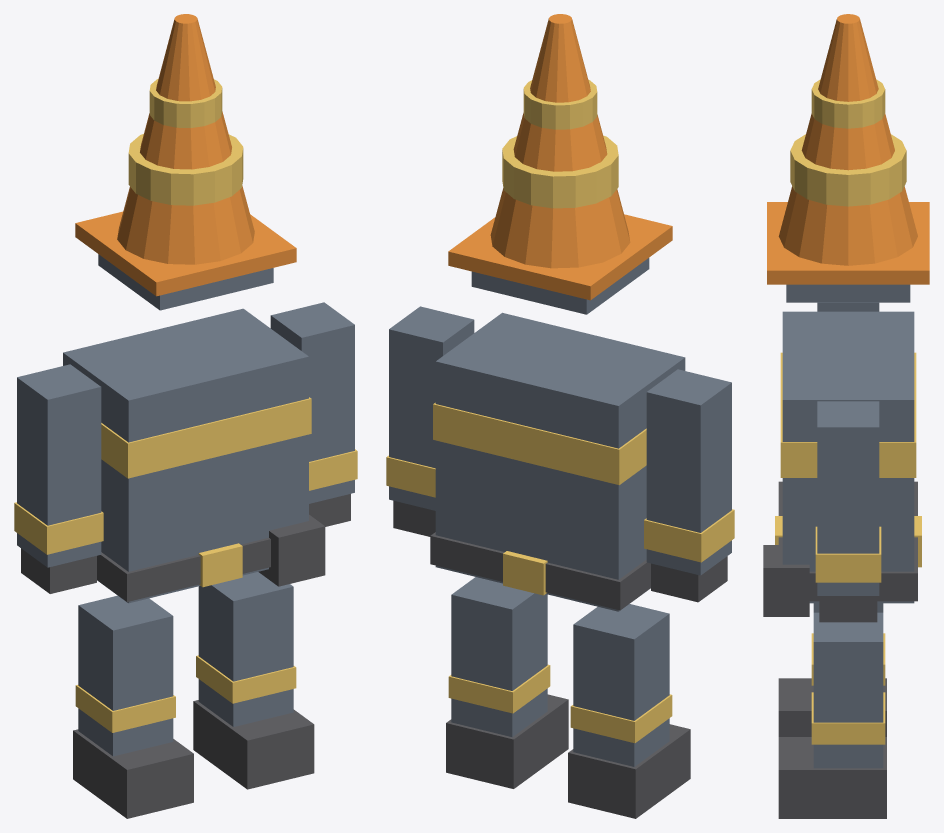
File: traffic-cone-guy.glb
3 views of the same model, side by side, from view 1: azimuth 30°, elevation 25°; view 2: azimuth 150°, elevation 25°; view 3: azimuth 270°, elevation 25° (orthographic).
Visible parts, largest first — view 1: JacketTorso, ConeBody, Arm_L_Sleeve, Pants_L, Pants_R, Arm_R_Sleeve, ChestStripe, Boot_R, Boot_L, ConeBase, ConeStripeLower, ToolBelt (+10 smaller); view 2: JacketTorso, ConeBody, Arm_L_Sleeve, Pants_L, Pants_R, Arm_R_Sleeve, ChestStripe, ConeBase, Boot_R, Boot_L, ToolBelt, ConeStripeLower (+9 smaller); view 3: JacketTorso, ConeBody, Arm_R_Sleeve, Pants_R, Boot_R, ConeBase, ConeStripeLower, ChestStripe, BeltPouch, Collar, ConeStripeUpper, Cuff_R_Reflector (+6 smaller).
Part boxes in pixels (left/top/right/bottom): JacketTorso: left=63, top=308, right=308, bottom=603; ConeBody: left=117, top=14, right=254, bottom=264; Arm_L_Sleeve: left=17, top=364, right=101, bottom=567; Pants_L: left=78, top=595, right=173, bottom=756; Pants_R: left=198, top=572, right=293, bottom=726; Arm_R_Sleeve: left=270, top=302, right=354, bottom=503; ChestStripe: left=101, top=397, right=311, bottom=478; Boot_R: left=193, top=700, right=314, bottom=789; Boot_L: left=73, top=729, right=193, bottom=818; ConeBase: left=75, top=211, right=296, bottom=296; ConeStripeLower: left=128, top=134, right=243, bottom=205; ToolBelt: left=97, top=537, right=270, bottom=601; JacketTorso: left=435, top=312, right=685, bottom=611; ConeBody: left=490, top=14, right=630, bottom=268; Arm_L_Sleeve: left=646, top=369, right=731, bottom=575; Pants_L: left=573, top=604, right=669, bottom=766; Pants_R: left=451, top=577, right=547, bottom=737; Arm_R_Sleeve: left=389, top=306, right=474, bottom=510; ChestStripe: left=433, top=402, right=646, bottom=485; ConeBase: left=448, top=214, right=672, bottom=300; Boot_R: left=446, top=694, right=568, bottom=788; Boot_L: left=568, top=724, right=690, bottom=818; ToolBelt: left=430, top=532, right=650, bottom=610; ConeStripeLower: left=502, top=135, right=618, bottom=208; JacketTorso: left=782, top=311, right=914, bottom=603; ConeBody: left=778, top=14, right=917, bottom=265; Arm_R_Sleeve: left=817, top=401, right=879, bottom=595; Pants_R: left=813, top=612, right=883, bottom=768; Boot_R: left=778, top=737, right=886, bottom=818; ConeBase: left=767, top=202, right=929, bottom=284; ConeStripeLower: left=790, top=134, right=906, bottom=206; ChestStripe: left=780, top=352, right=916, bottom=477; BeltPouch: left=763, top=545, right=809, bottom=616; Collar: left=786, top=284, right=910, bottom=302; ConeStripeUpper: left=811, top=79, right=885, bottom=128; Cuff_R_Reflector: left=815, top=526, right=881, bottom=582.
Size of the model in its own units: 0.93 by 2.15 by 0.43.
